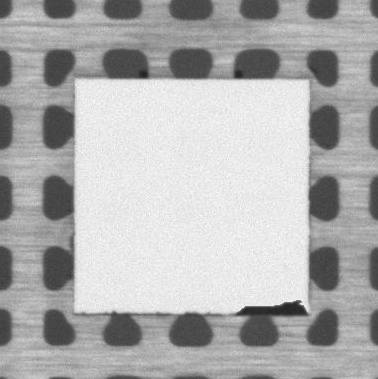DIE_BROKEN: (233, 298, 312, 318)
